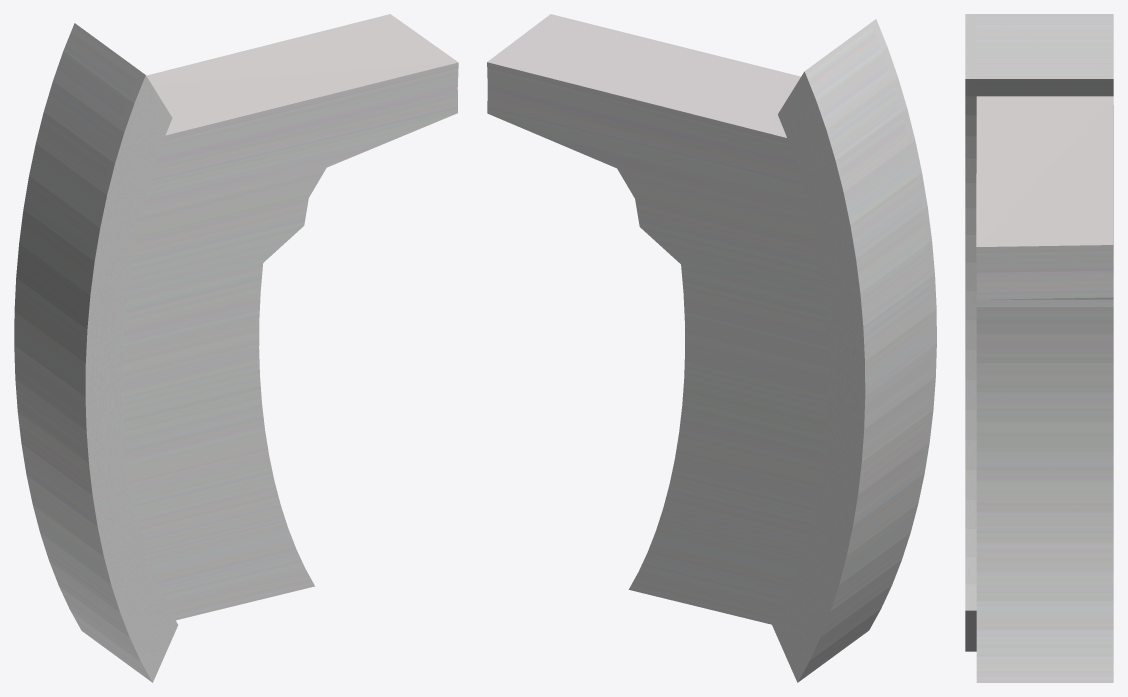
The model's file is wall_tele_le.fbx.
3 renders of one model, left to right at view 1: azimuth 30°, elevation 25°; view 2: azimuth 150°, elevation 25°; view 3: azimuth 270°, elevation 25°, orthographic. The views are drawn at different scales.
Parts seen in each view (by area): view 1: pasted__pasted__wallinternal; view 2: pasted__pasted__wallinternal; view 3: pasted__pasted__wallinternal.
Part boxes in pixels (x1,y1,x2,y2): pasted__pasted__wallinternal: (14, 14, 458, 682); pasted__pasted__wallinternal: (487, 14, 936, 682); pasted__pasted__wallinternal: (965, 14, 1113, 682).
Size of the model in its own units: 2.79 by 4.29 by 0.9102.
